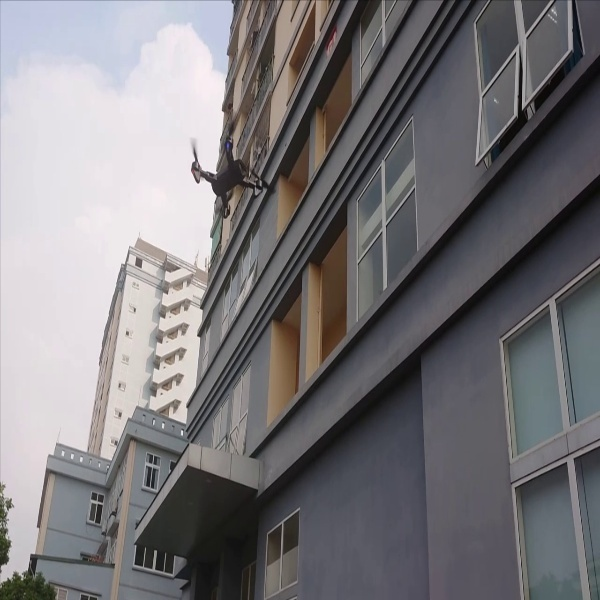drone: (185, 127, 274, 216)
